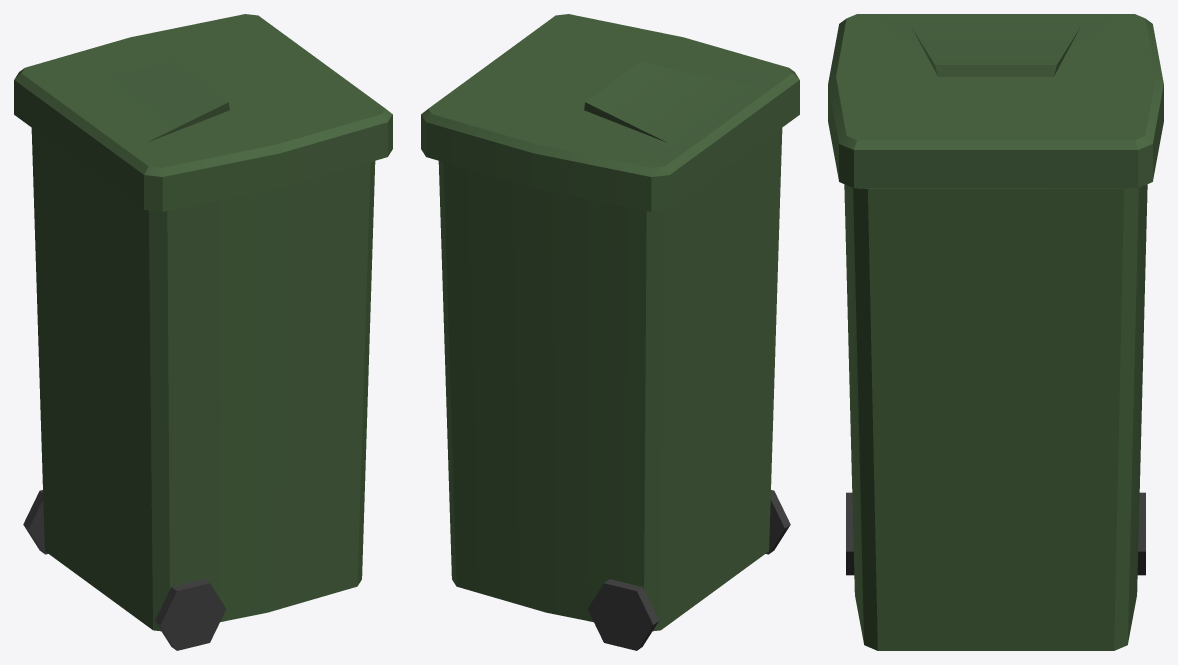
File: trashCan_02.fbx
3 views of the same model, side by side, from view 1: azimuth 30°, elevation 25°; view 2: azimuth 150°, elevation 25°; view 3: azimuth 270°, elevation 25° (orthographic). The views are drawn at different scales.
Parts seen in each view (by area): view 1: trashCan_02; view 2: trashCan_02; view 3: trashCan_02.
Part boxes in pixels (bbox=[...]): trashCan_02: bbox=[14, 14, 392, 650]; trashCan_02: bbox=[421, 14, 799, 650]; trashCan_02: bbox=[828, 14, 1163, 650].
Bounding box in the file's own units: 86.02 × 164 × 92.08.
